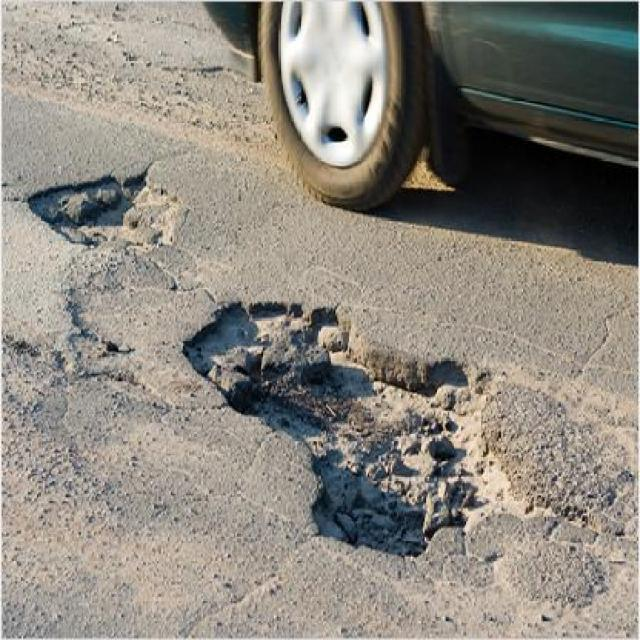pothole: (179, 278, 507, 577), (23, 161, 189, 261)
